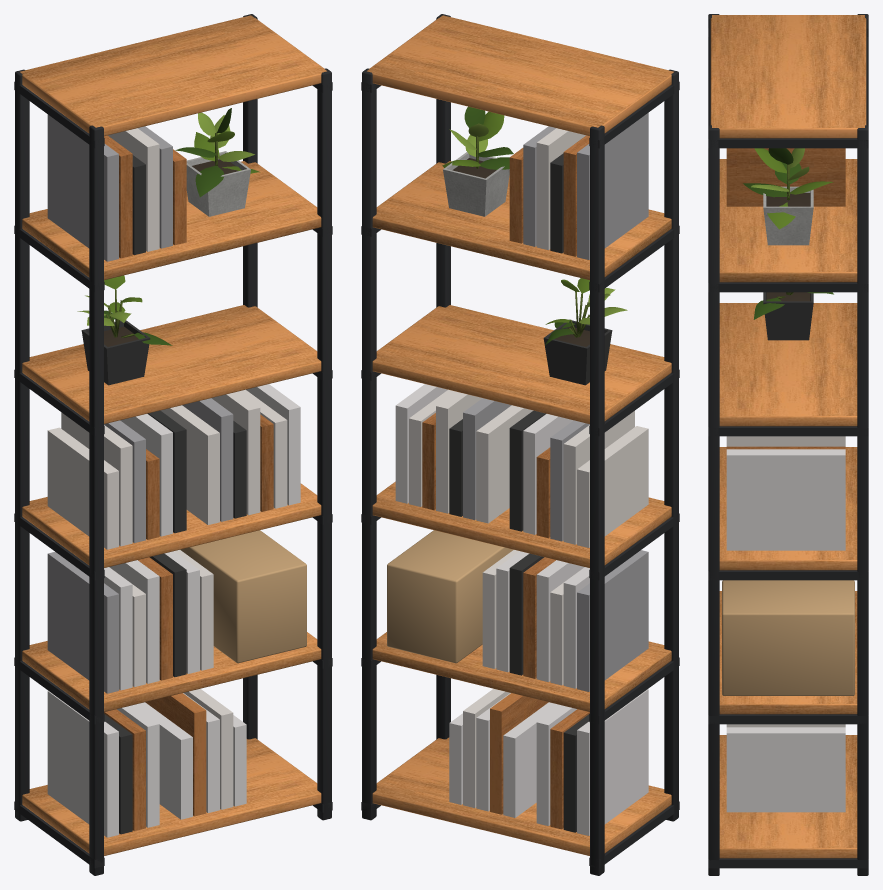
The model's file is storage.open-shelf.glb.
3 renders of one model, left to right at view 1: azimuth 30°, elevation 25°; view 2: azimuth 150°, elevation 25°; view 3: azimuth 270°, elevation 25°, orthographic.
Visible parts, largest first — view 1: storage.open-shelf.001; view 2: storage.open-shelf.001; view 3: storage.open-shelf.001.
Part boxes in pixels (x1,y1,x2,y2): storage.open-shelf.001: (14, 14, 332, 875); storage.open-shelf.001: (361, 14, 679, 875); storage.open-shelf.001: (708, 14, 868, 875).
Size of the model in its own units: 0.6 by 1.8 by 0.35.
14 materials, 3 textured.
